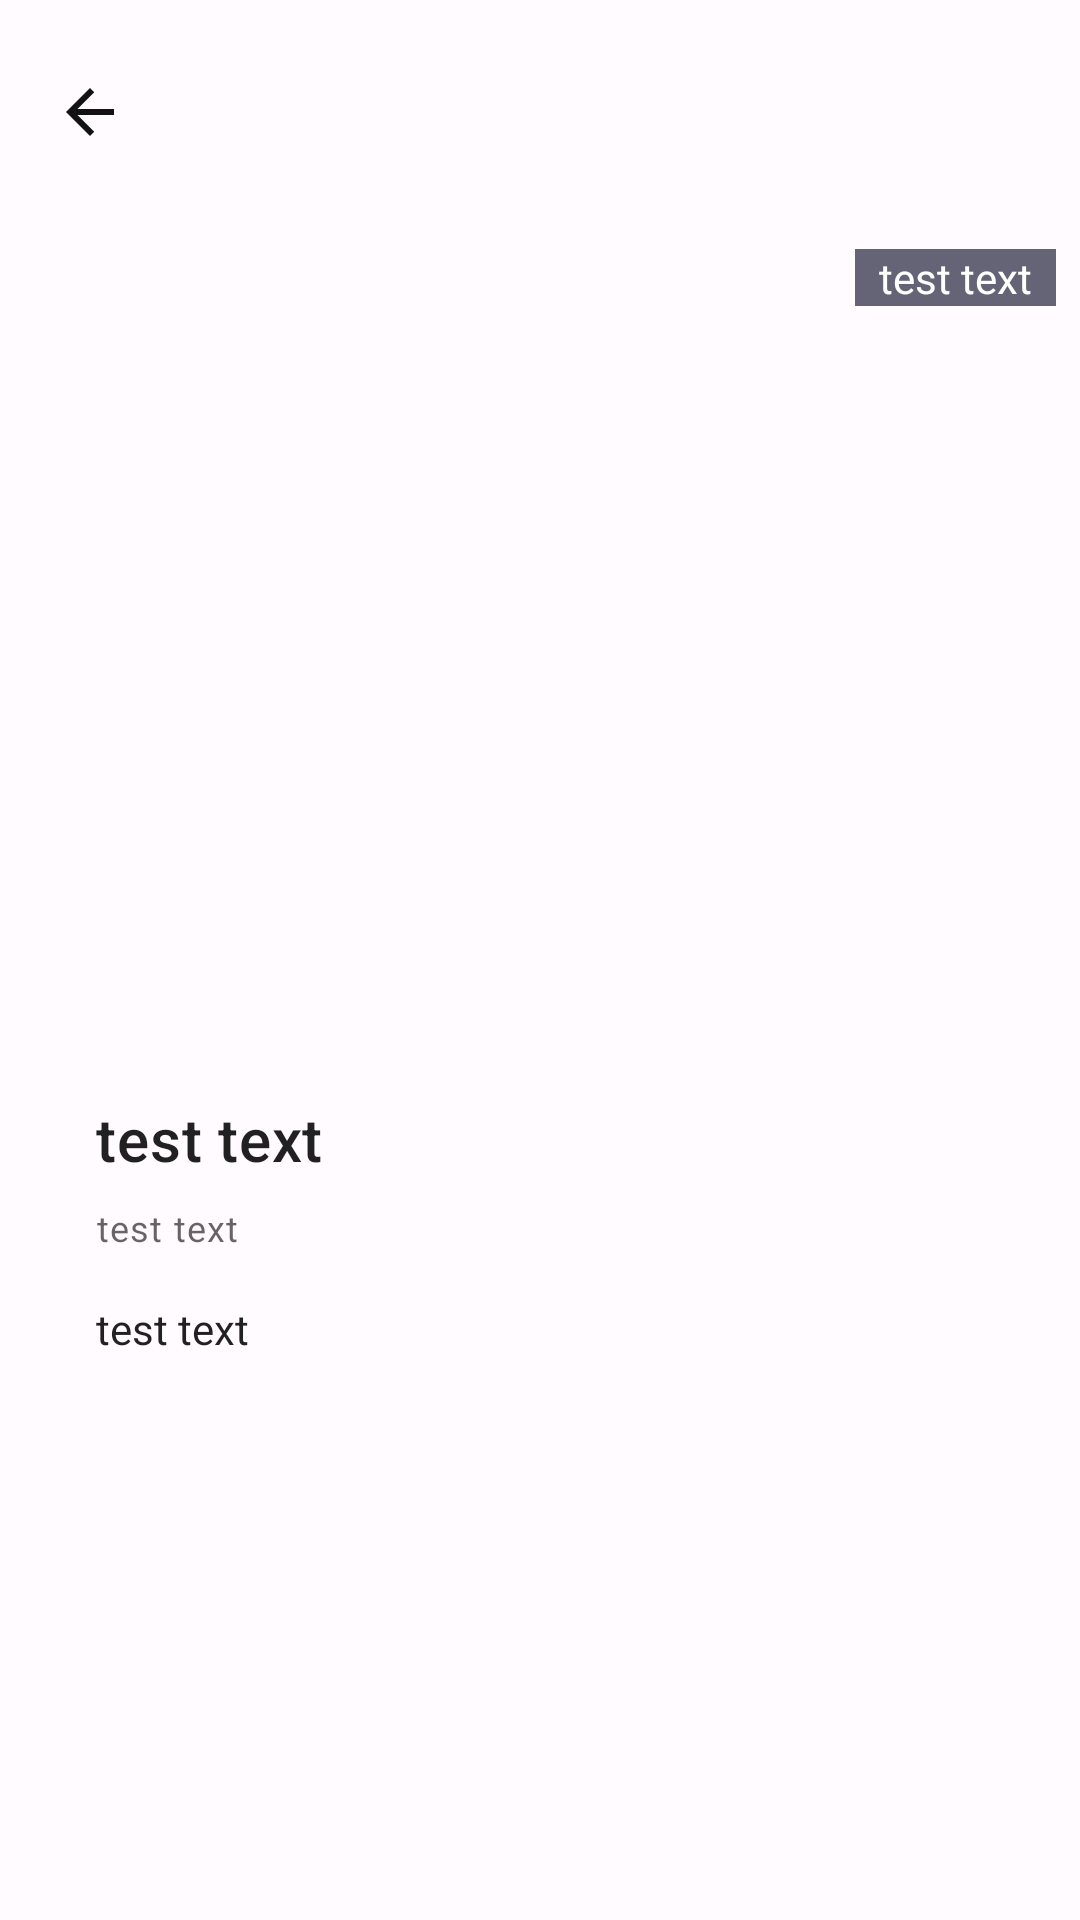

Screen size 1080x1920. Icon name, then its center in pixels as (x=x, y=y):
arrow back: (x=90, y=112)
